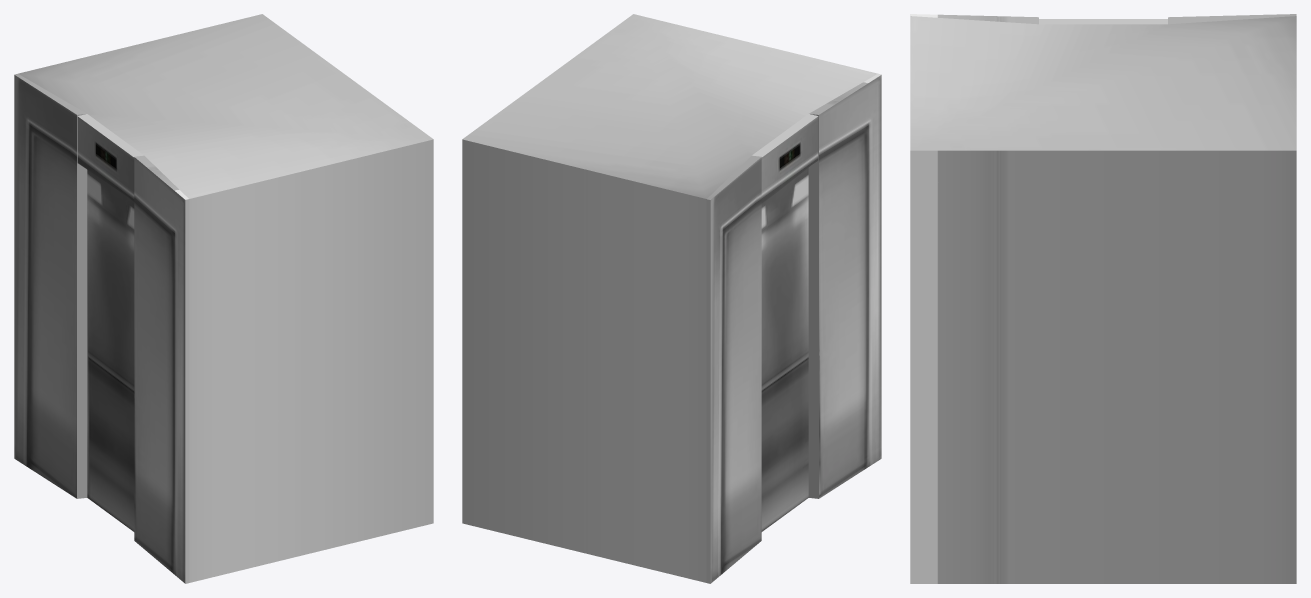
Rendered from hissi.gltf.
3 renders of one model, left to right at view 1: azimuth 30°, elevation 25°; view 2: azimuth 150°, elevation 25°; view 3: azimuth 270°, elevation 25°, orthographic. The views are drawn at different scales.
Parts seen in each view (by area): view 1: hissi; view 2: hissi; view 3: hissi.
Part boxes in pixels (left/top/right/bottom): hissi: left=14, top=14, right=433, bottom=583; hissi: left=462, top=14, right=881, bottom=583; hissi: left=910, top=14, right=1296, bottom=583.
Bounding box in the file's own units: 2.03 × 3.01 × 2.43.
Materials: 1 (1 with a texture image).
